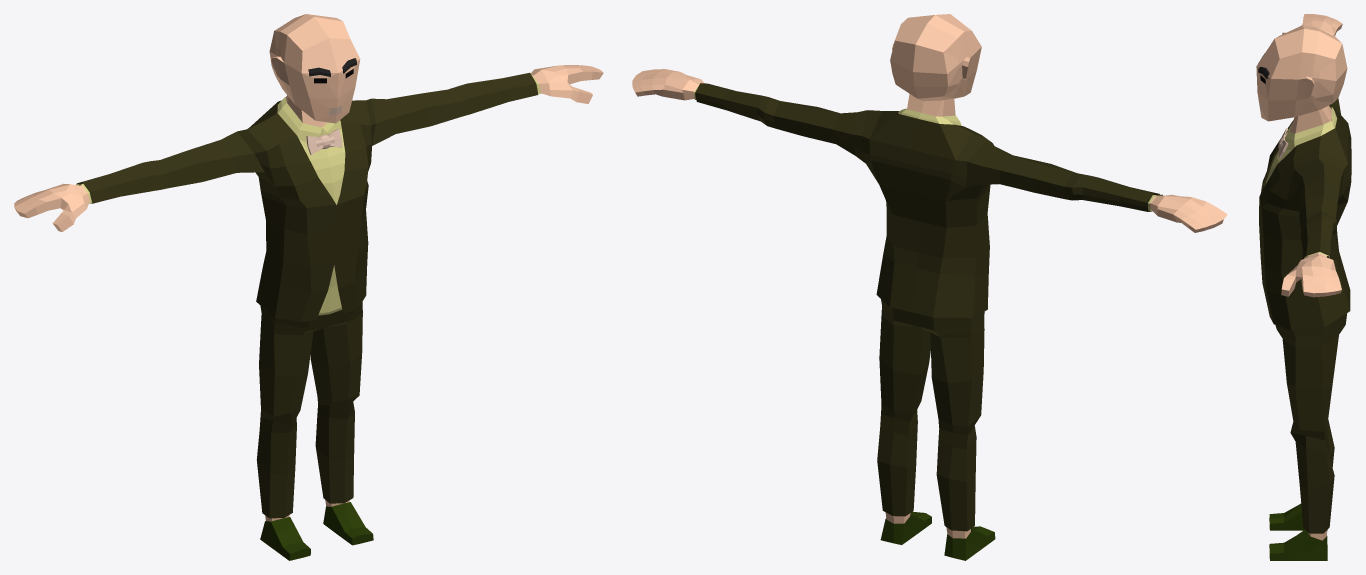
The model's file is NPC_TrajeFullVerdePocho_Escenario2_Pajarita.fbx.
3 views of the same model, side by side, from view 1: azimuth 30°, elevation 25°; view 2: azimuth 150°, elevation 25°; view 3: azimuth 270°, elevation 25° (orthographic). The views are drawn at different scales.
Parts seen in each view (by area): view 1: Personaje; view 2: Personaje; view 3: Personaje.
Boxes of the visible parts, x1,y1,x2,y2 form: Personaje: [14, 14, 603, 560]; Personaje: [632, 14, 1227, 560]; Personaje: [1256, 14, 1351, 560].
Bounding box in the file's own units: 215 × 184 × 30.94.
